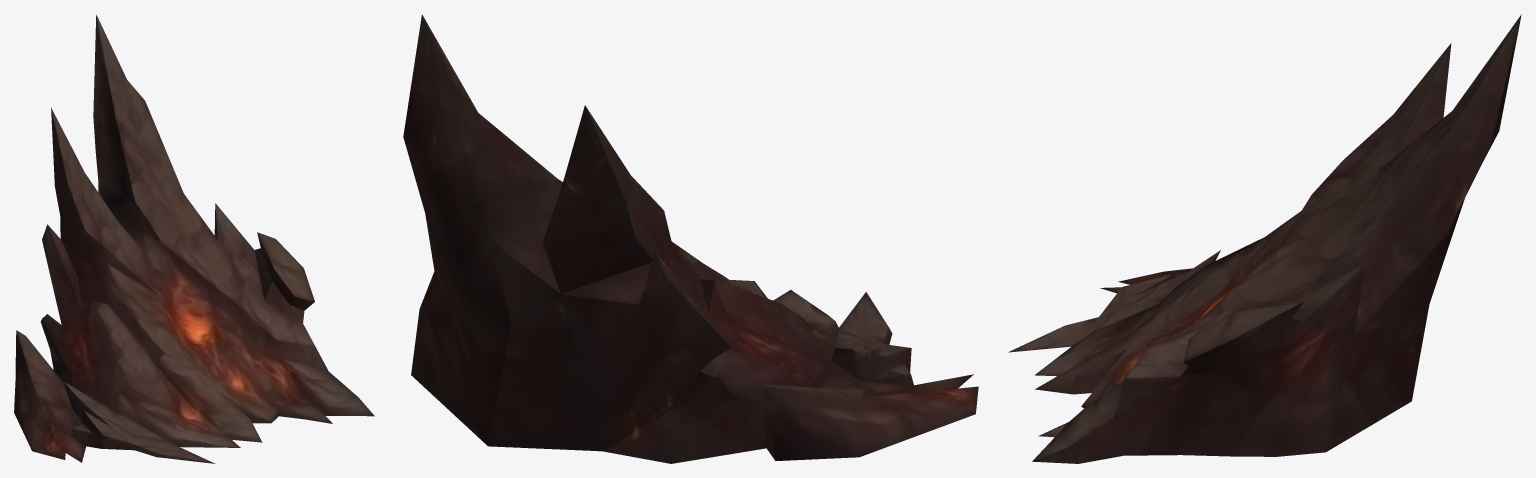
The model's file is 1005_Item_Stone_05.FBX.
3 renders of one model, left to right at view 1: azimuth 30°, elevation 25°; view 2: azimuth 150°, elevation 25°; view 3: azimuth 270°, elevation 25°, orthographic. The views are drawn at different scales.
Visible parts, largest first — view 1: 1005_Item_Stone_05; view 2: 1005_Item_Stone_05; view 3: 1005_Item_Stone_05.
Part boxes in pixels (box(x1,y1,x2,y2)): 1005_Item_Stone_05: box(14, 15, 374, 463); 1005_Item_Stone_05: box(403, 14, 978, 463); 1005_Item_Stone_05: box(1008, 14, 1521, 463).
Size of the model in its own units: 4442 by 4157 by 5016.
